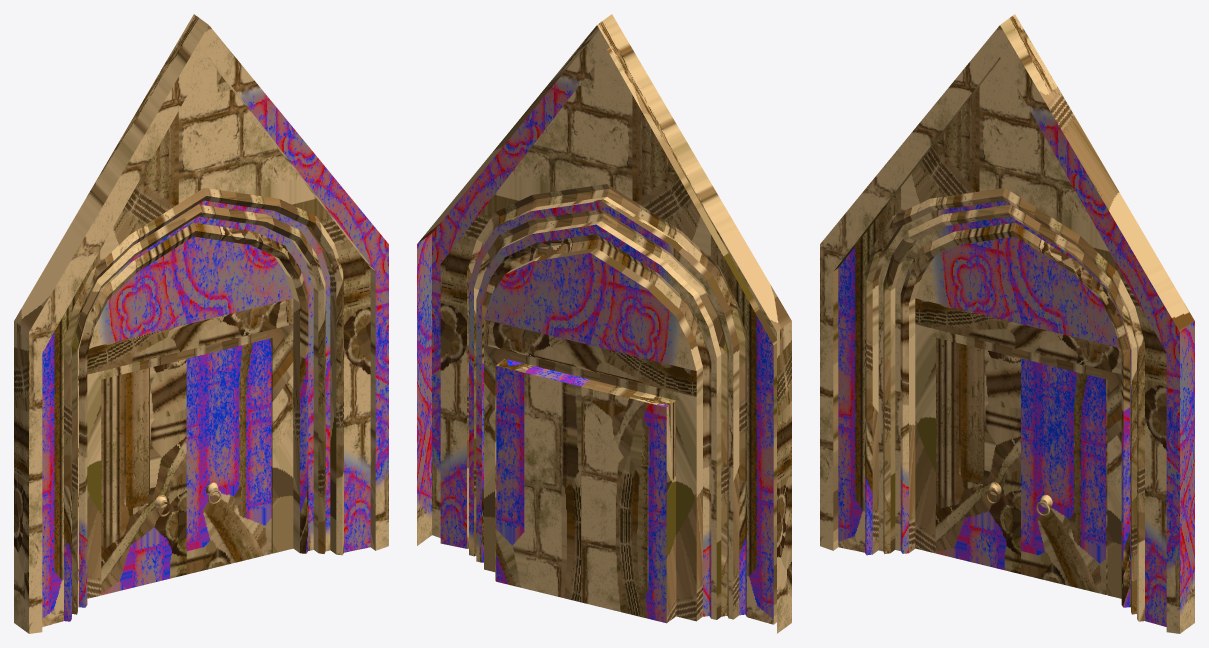
File: SM_Porton.fbx
3 renders of one model, left to right at view 1: azimuth 30°, elevation 25°; view 2: azimuth 150°, elevation 25°; view 3: azimuth 330°, elevation 25°, orthographic.
Parts seen in each view (by area): view 1: SM_Puerta; view 2: SM_Puerta; view 3: SM_Puerta.
Boxes of the visible parts, x1,y1,x2,y2 form: SM_Puerta: [14, 14, 388, 633]; SM_Puerta: [417, 14, 791, 633]; SM_Puerta: [820, 14, 1194, 633].
Size of the model in its own units: 602 by 906 by 90.6.
